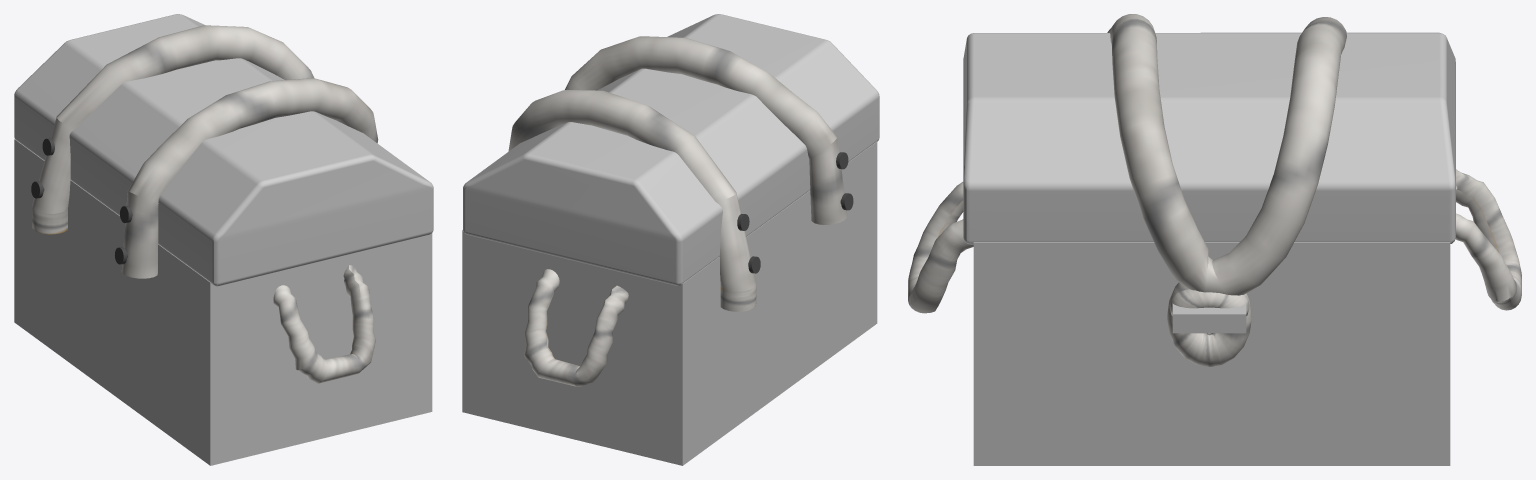
The model's file is Wooden Chest.fbx.
3 views of the same model, side by side, from view 1: azimuth 30°, elevation 25°; view 2: azimuth 150°, elevation 25°; view 3: azimuth 270°, elevation 25° (orthographic). The views are drawn at different scales.
Parts seen in each view (by area): view 1: Jungle_Chest2; view 2: Jungle_Chest2; view 3: Jungle_Chest2.
Part boxes in pixels (x1=…): Jungle_Chest2: x1=14, y1=14, x2=433, y2=465; Jungle_Chest2: x1=462, y1=14, x2=879, y2=465; Jungle_Chest2: x1=908, y1=14, x2=1521, y2=465.
Size of the model in its own units: 68.55 by 68.23 by 103.
